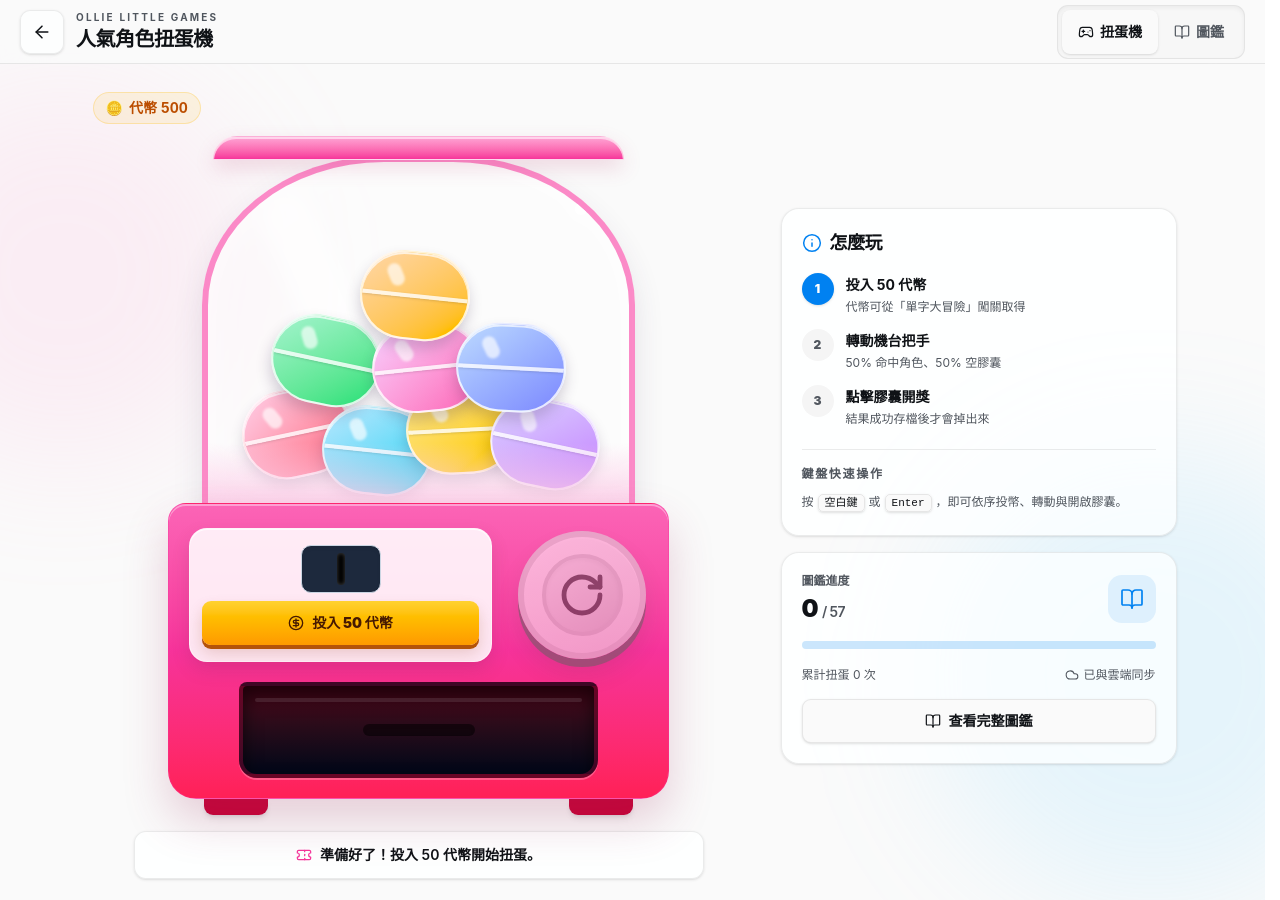
Scenario: GachaMachine draw guard › does not submit a draw when its durable reveal guard cannot be saved
Click the button "投入 50 代幣" at (340, 623), box [202,601,479,645]
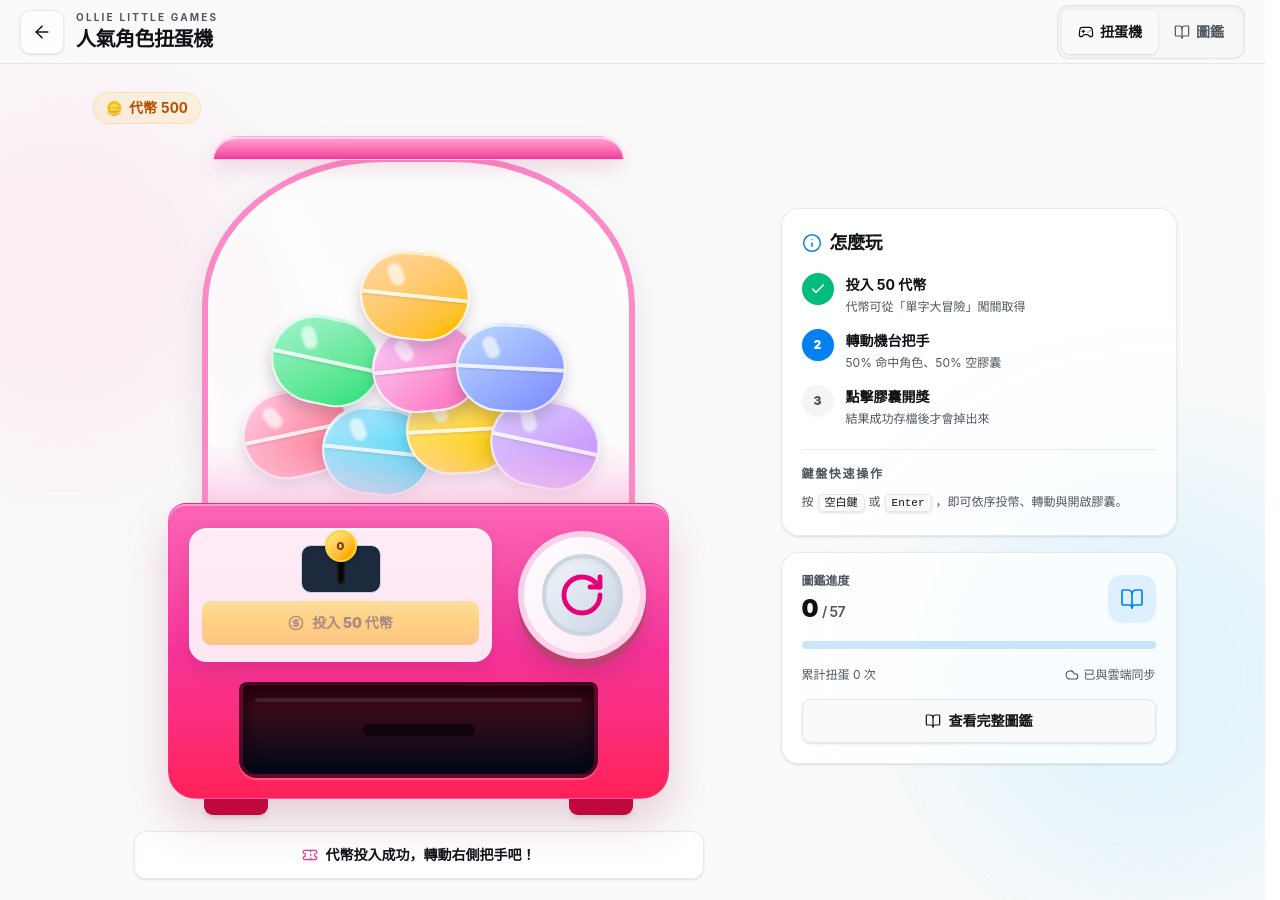
Click the button named "轉動扭蛋機把手" at (582, 595), box [518,531,646,659]
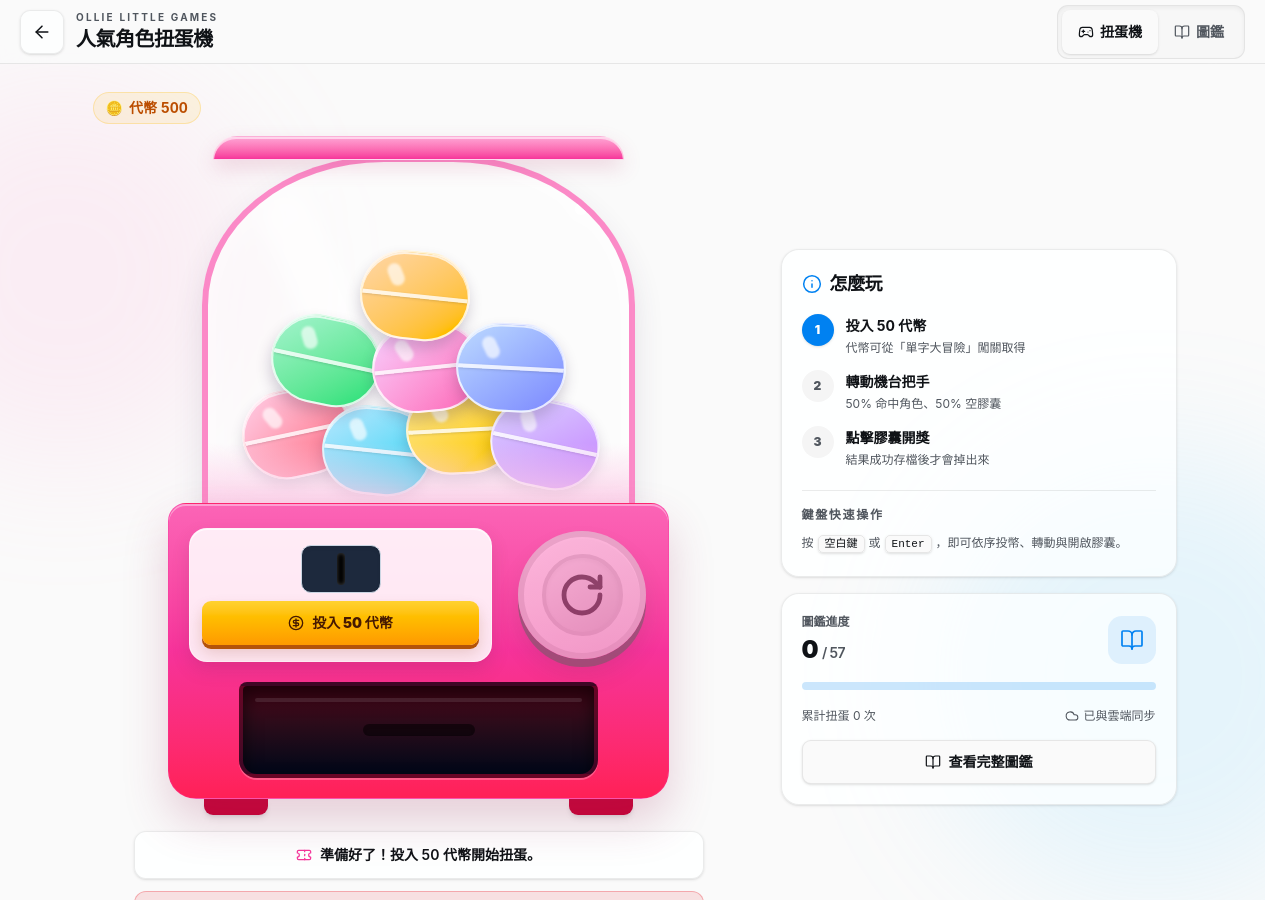
Expected: the button "投入 50 代幣" is enabled, [202,601,479,645]
